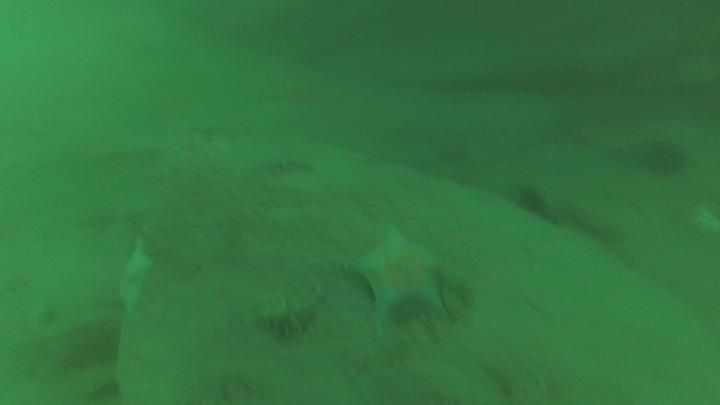echinus: (640, 137, 689, 178), (513, 185, 552, 222)
holothurian: (255, 280, 324, 341)
starfish: (346, 223, 451, 325), (112, 235, 159, 319)
